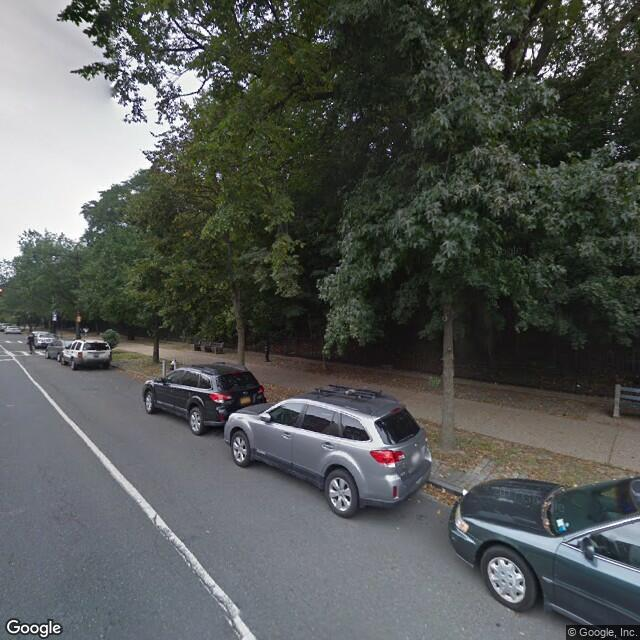litter: (462, 488, 465, 492)
